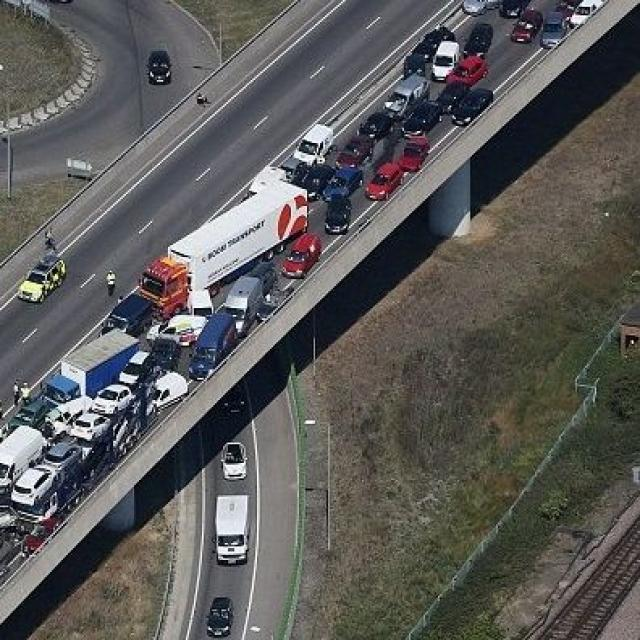traffic_incident: (18, 182, 265, 499)
